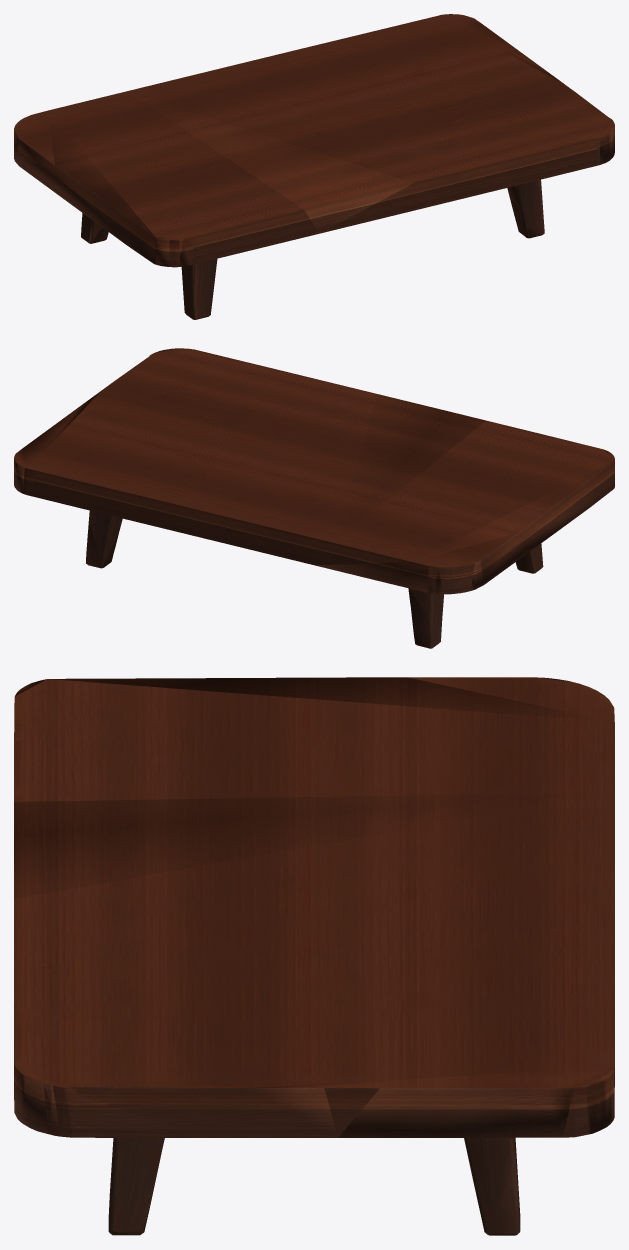
File: PR_LowCoffeeTable.fbx
3 views of the same model, one above another, from view 1: azimuth 30°, elevation 25°; view 2: azimuth 150°, elevation 25°; view 3: azimuth 270°, elevation 25° (orthographic). The views are drawn at different scales.
Visible parts, largest first — view 1: Mesh_0; view 2: Mesh_0; view 3: Mesh_0.
Part boxes in pixels (x1,y1,x2,y2): Mesh_0: (14, 14, 614, 319); Mesh_0: (14, 348, 614, 648); Mesh_0: (14, 677, 614, 1235).
Bounding box in the file's own units: 190 × 42.9 × 117.
Materials: 1 (1 with a texture image).
